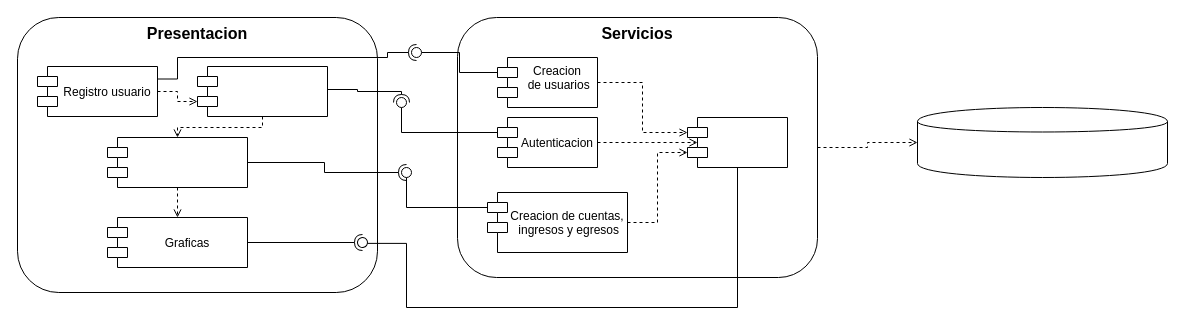
Some shapes in this 1185 by 326 pixel diagram are drawn without their labels. The box of each missing label's shape, as (x1, y1, x2, y2) in pixels:
Acceso a datos: (686, 116, 788, 168)
Base de datos: (916, 106, 1168, 178)
Creacion de cuentas, ingresos y gastos: (106, 136, 248, 188)
Loguin: (196, 66, 328, 116)
